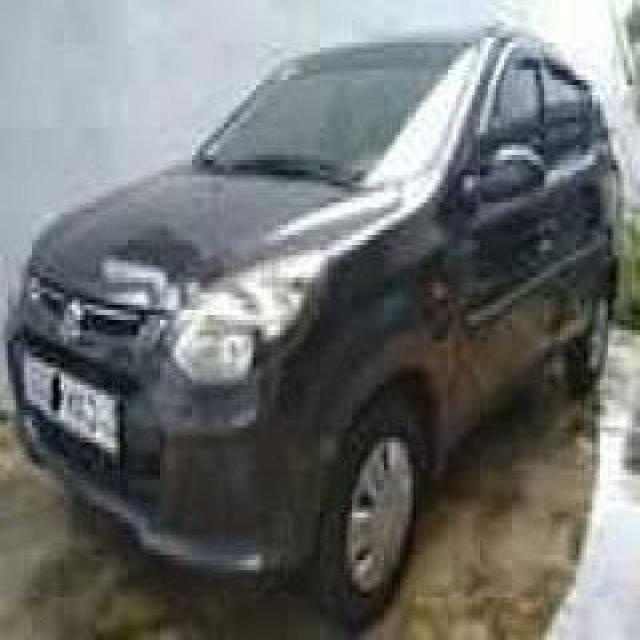car: (5, 12, 635, 637)
